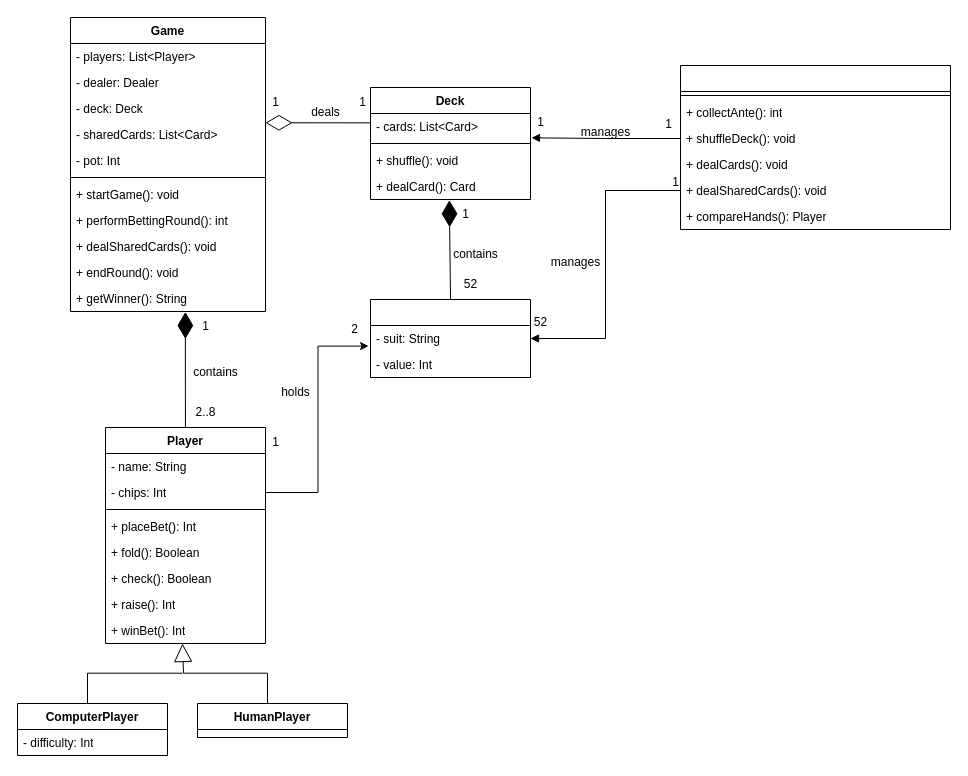
Image size: 968x776. Some labels were removed from this diagram. Here are the shapes that lost their labels. From the top down, the box of each, then its label:
(680, 64, 950, 230): Dealer
(370, 298, 530, 378): Card
